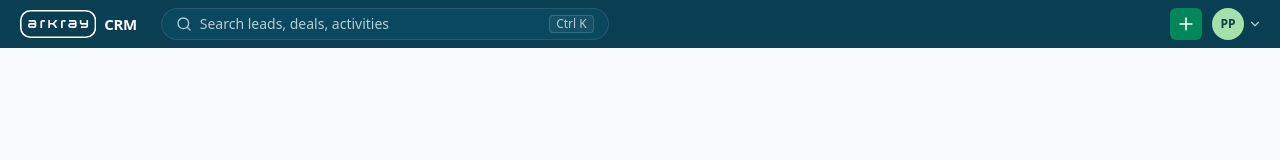
Scenario: the header › offers quick creation of the records the viewer may add, in this workspace
This screenshot has width=1280, height=160.
Click the button named "Create".
click(1186, 24)  # box [1170, 8, 1202, 40]
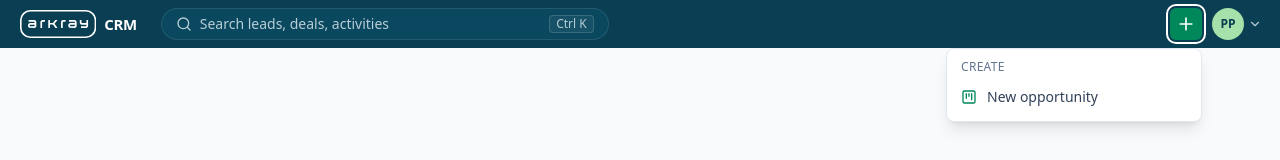
Press Escape
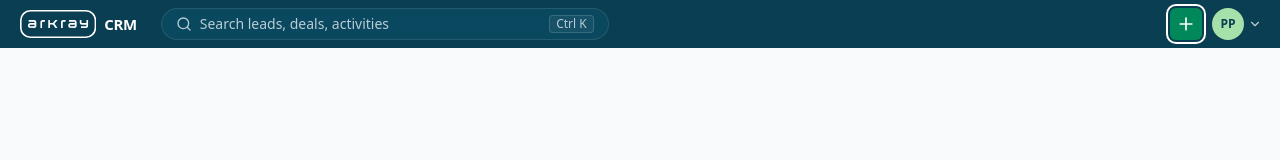
Expected: the link "New opportunity" is gone
